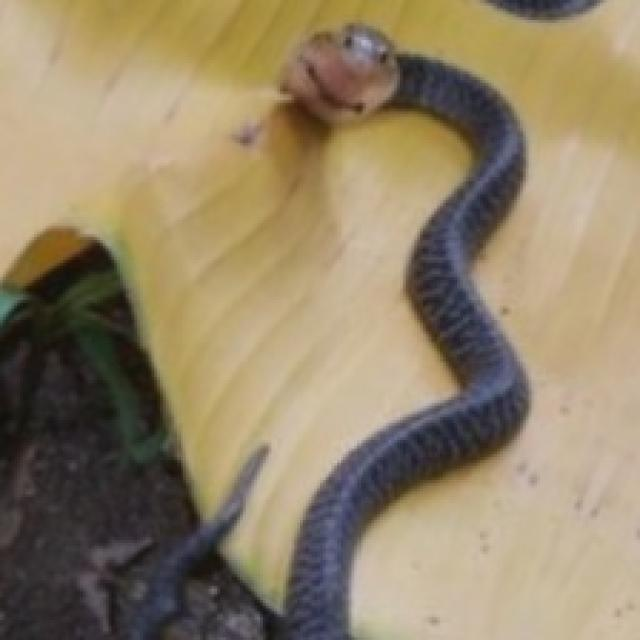philippine cobra: (283, 26, 526, 637)
